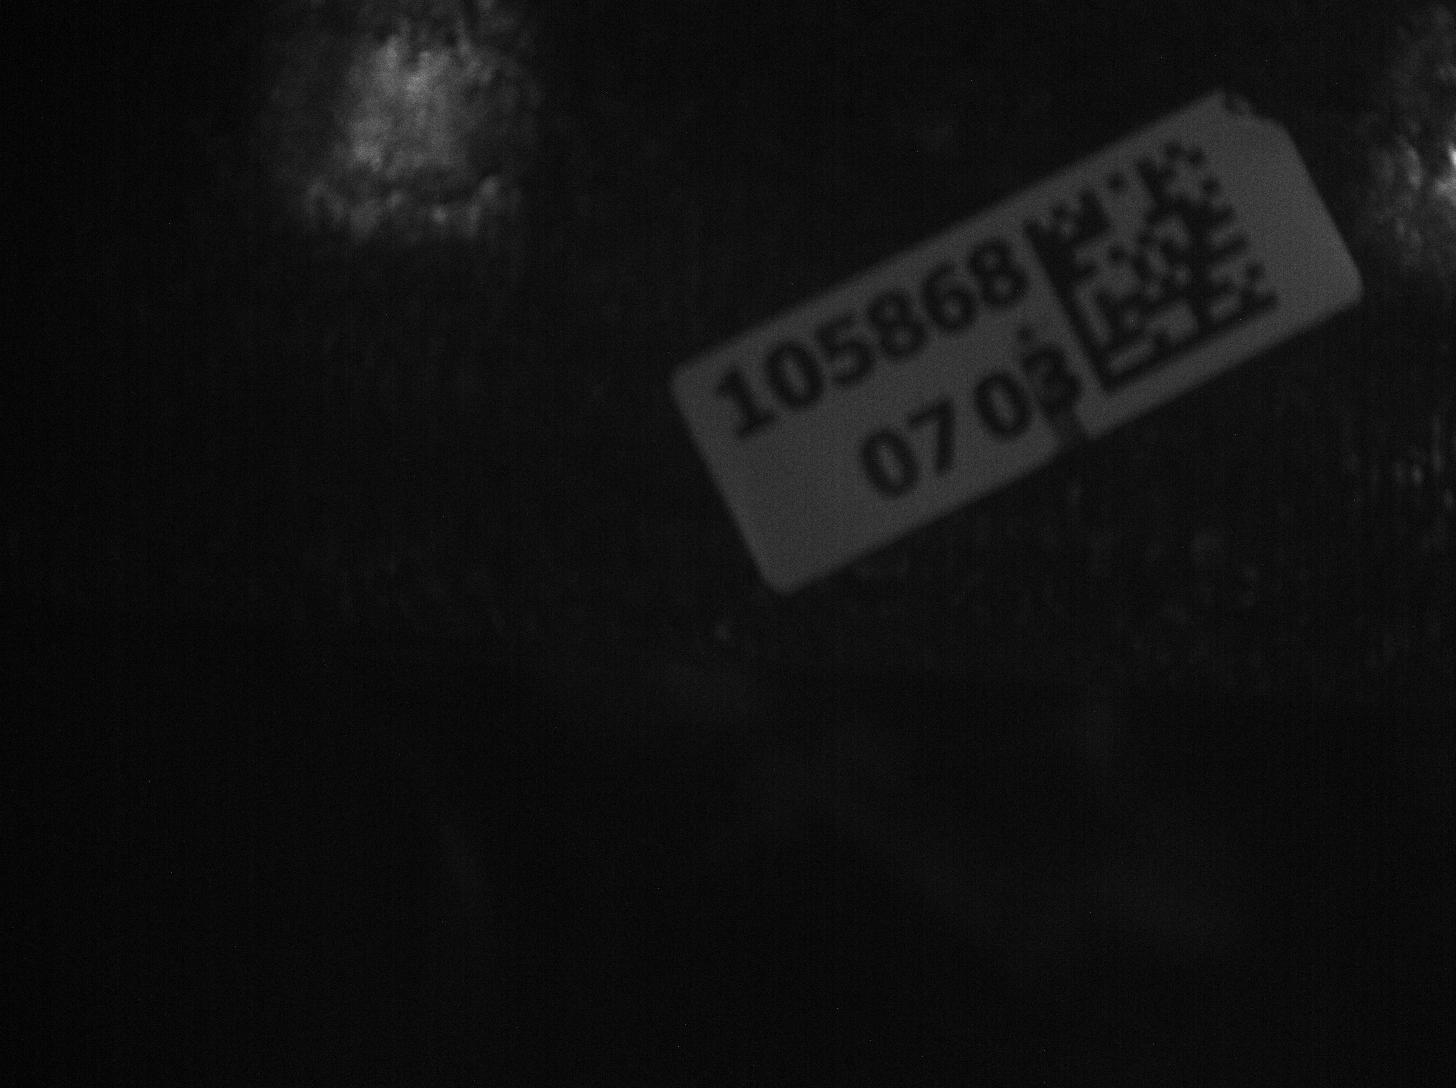data matrix: (1014, 120, 1297, 407)
